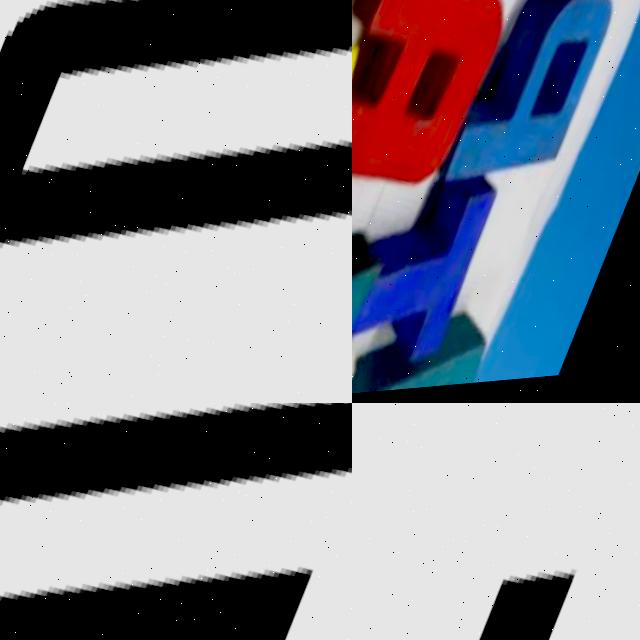0: (0, 0, 352, 403)
A: (352, 0, 526, 211)
K: (352, 155, 412, 403)
P: (446, 0, 623, 196)
T: (352, 158, 509, 384)
U: (0, 403, 352, 640)
